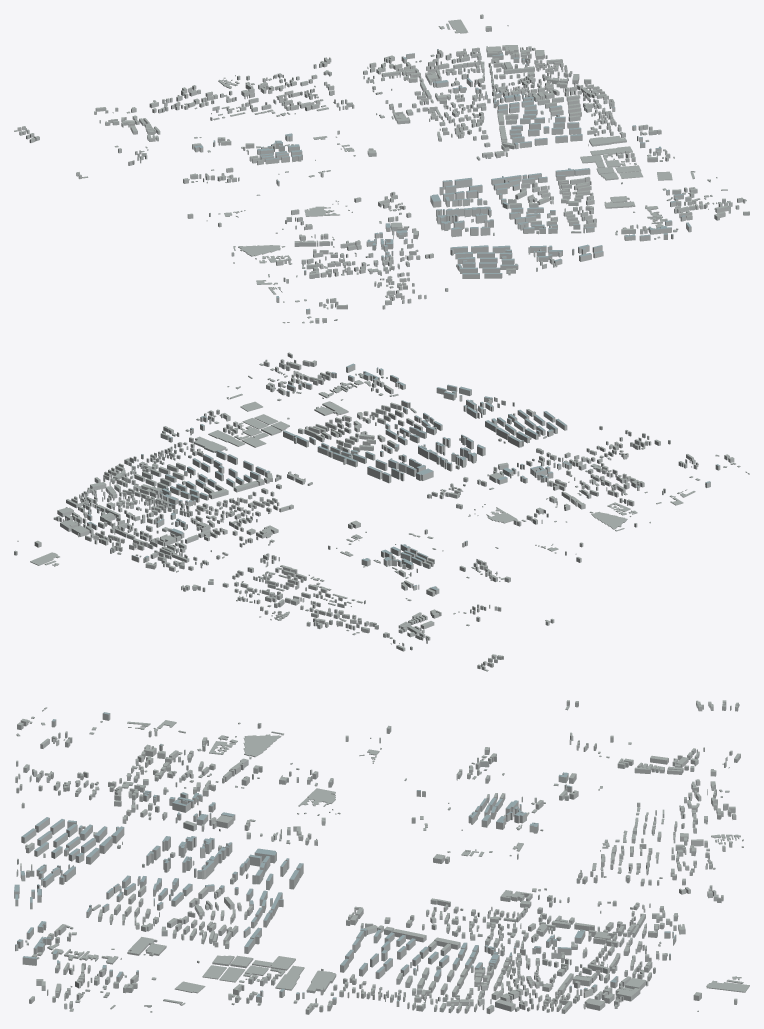
Rendered from far.glb.
3 renders of one model, top to bottom at view 1: azimuth 30°, elevation 25°; view 2: azimuth 150°, elevation 25°; view 3: azimuth 270°, elevation 25°, orthographic. The views are drawn at different scales.
Size of the model in its own units: 2116 by 32.8 by 2122.
